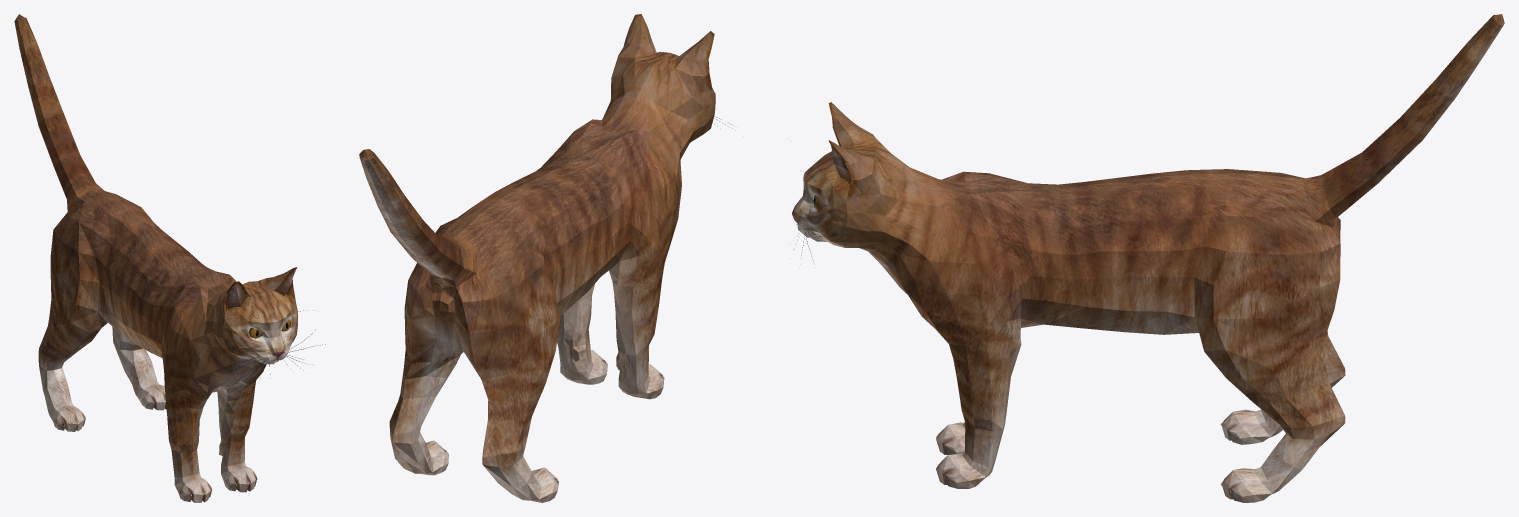
File: Kucing.fbx
3 views of the same model, side by side, from view 1: azimuth 30°, elevation 25°; view 2: azimuth 150°, elevation 25°; view 3: azimuth 270°, elevation 25° (orthographic). The views are drawn at different scales.
Parts seen in each view (by area): view 1: MO9X3CWBH0WJAUZ23ZCZW3TCL; view 2: MO9X3CWBH0WJAUZ23ZCZW3TCL; view 3: MO9X3CWBH0WJAUZ23ZCZW3TCL.
Part boxes in pixels (<box>): MO9X3CWBH0WJAUZ23ZCZW3TCL: <box>14,14,325,502</box>; MO9X3CWBH0WJAUZ23ZCZW3TCL: <box>359,14,732,502</box>; MO9X3CWBH0WJAUZ23ZCZW3TCL: <box>792,14,1504,502</box>.
Bounding box in the file's own units: 63.71 × 173 × 250.
Materials: 1 (1 with a texture image).
